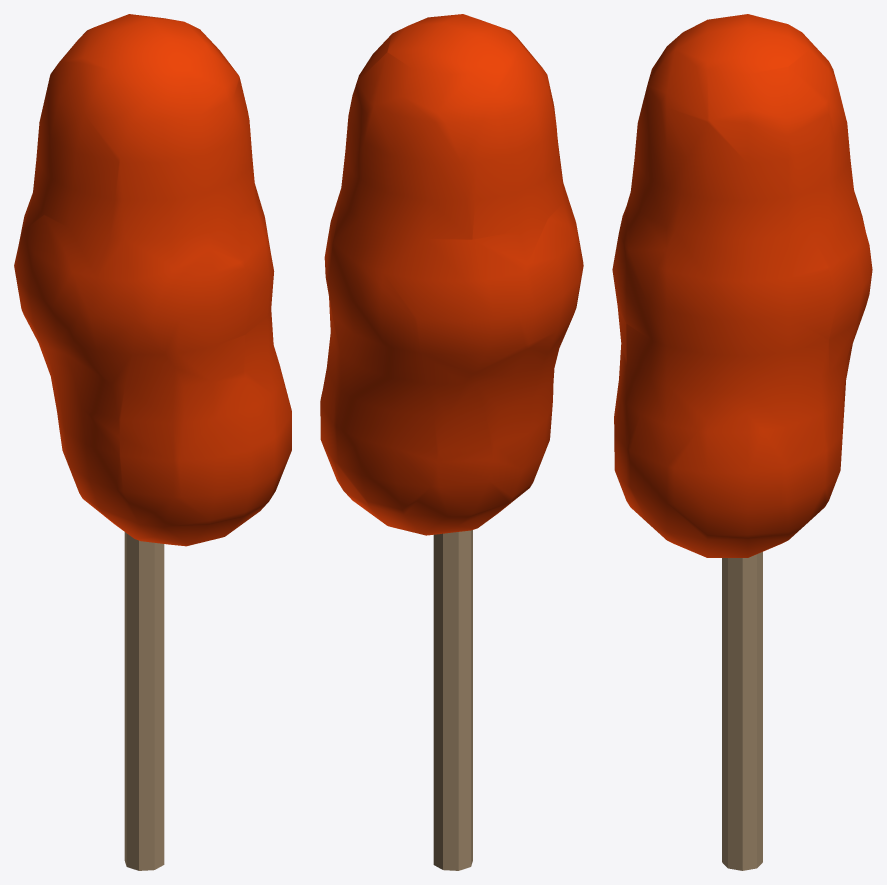
Rendered from tree.fbx.
The picture shows the model from 3 angles, left to right: view 1: azimuth 30°, elevation 25°; view 2: azimuth 150°, elevation 25°; view 3: azimuth 270°, elevation 25°; orthographic projection.
Parts seen in each view (by area): view 1: Mball, Cylinder; view 2: Mball, Cylinder; view 3: Mball, Cylinder.
Boxes of the visible parts, box(x1,y1,x2,y2) form: Mball: box(14, 14, 291, 546); Cylinder: box(124, 532, 164, 870); Mball: box(320, 14, 583, 535); Cylinder: box(433, 530, 472, 870); Mball: box(612, 14, 872, 557); Cylinder: box(722, 552, 762, 870).
Size of the model in its own units: 529 by 1798 by 505.
